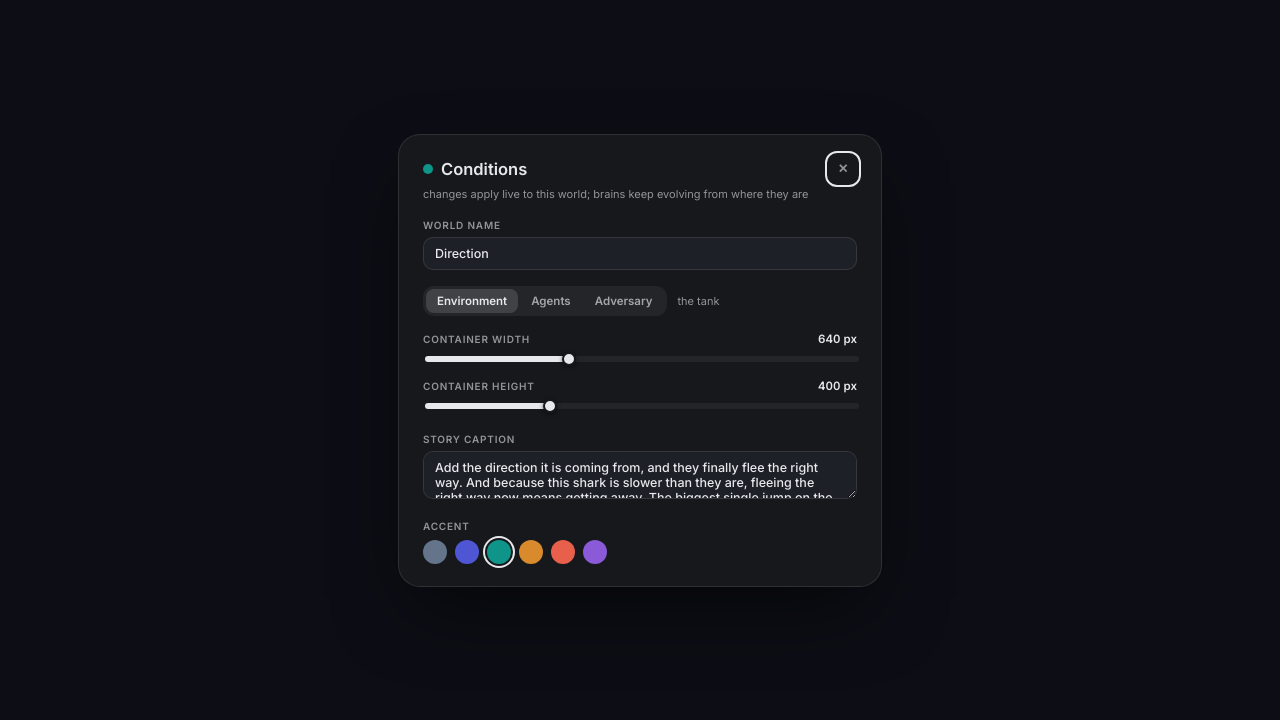
Test case: ConditionsModal › opens showing what the world currently is
Check: the field labelled "World name" holds "Direction", box [423,236,857,270]
Click the radio button labelled "Agents": click(551, 300) [520,288,582,312]
(page scrolled)
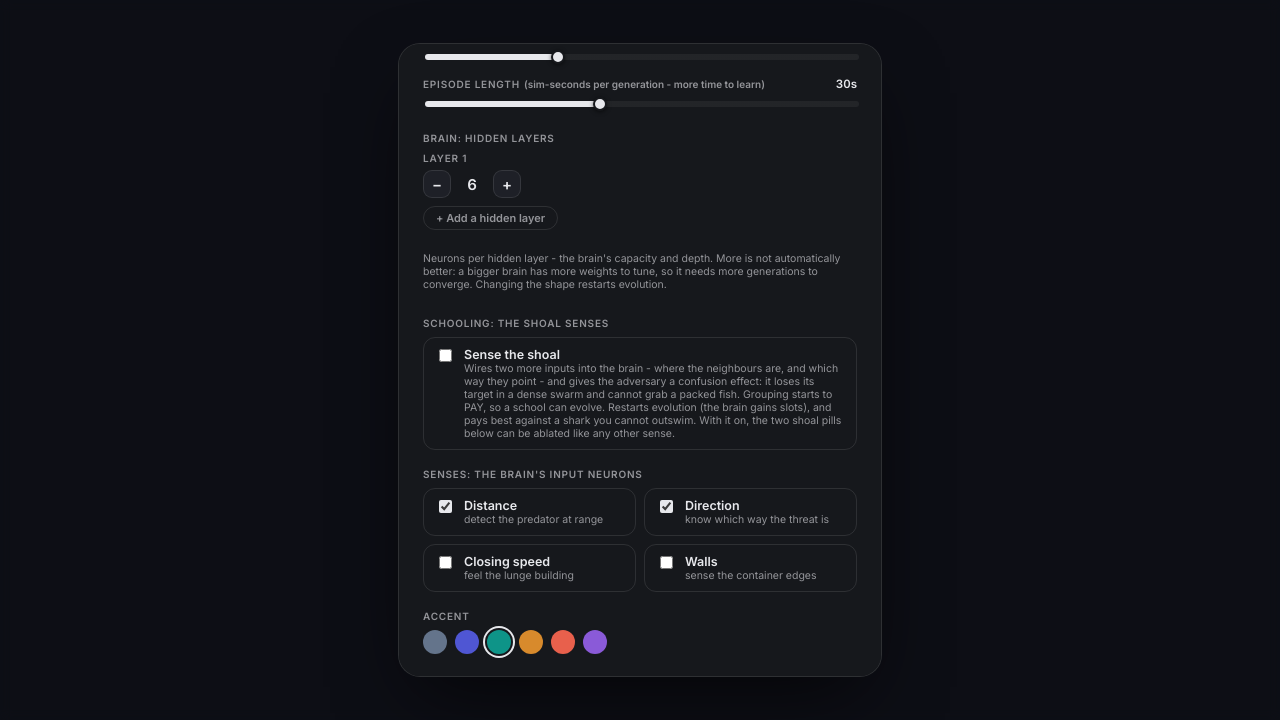
Check: the checkbox labelled "Walls sense the container edges" is not checked, box [660,556,673,569]
Check: the checkbox labelled "Distance detect the predator at range" is checked, box [439,500,452,513]
